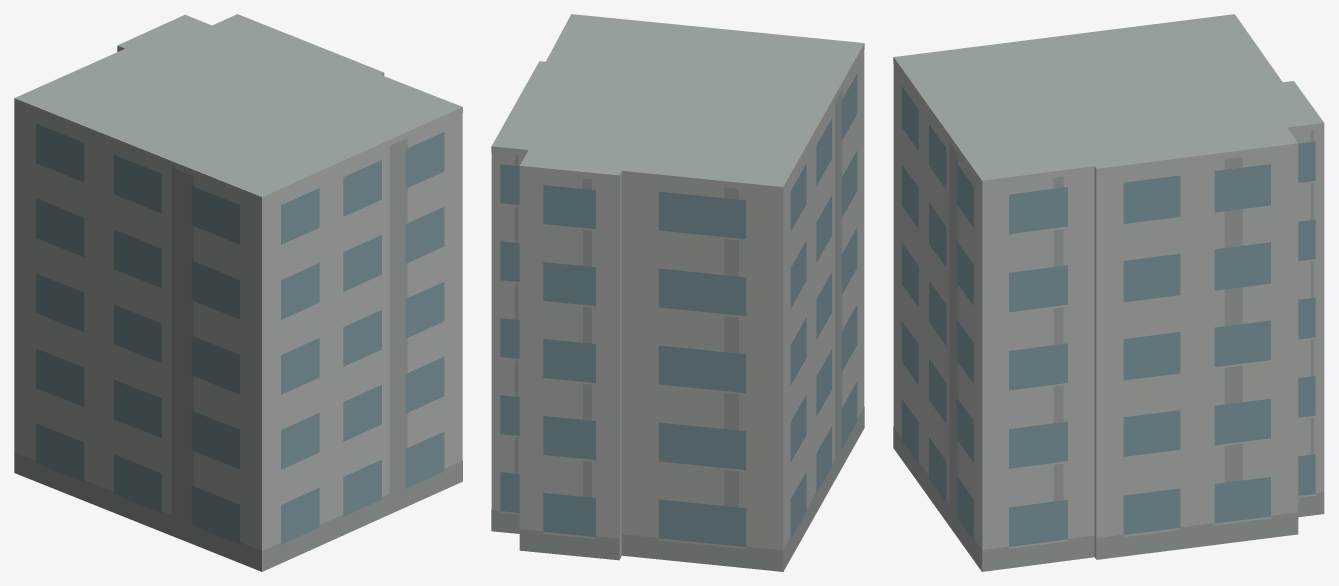
The model's file is survey-upis-32852281.glb.
3 views of the same model, side by side, from view 1: azimuth 30°, elevation 25°; view 2: azimuth 150°, elevation 25°; view 3: azimuth 270°, elevation 25° (orthographic). The views are drawn at different scales.
Visible parts, largest first — view 1: survey-upis-32852281.tmp; view 2: survey-upis-32852281.tmp; view 3: survey-upis-32852281.tmp.
Boxes of the visible parts, x1,y1,x2,y2 form: survey-upis-32852281.tmp: [14, 14, 462, 571]; survey-upis-32852281.tmp: [491, 14, 864, 571]; survey-upis-32852281.tmp: [893, 14, 1324, 571].
Bounding box in the file's own units: 13.32 × 14.55 × 14.53.
